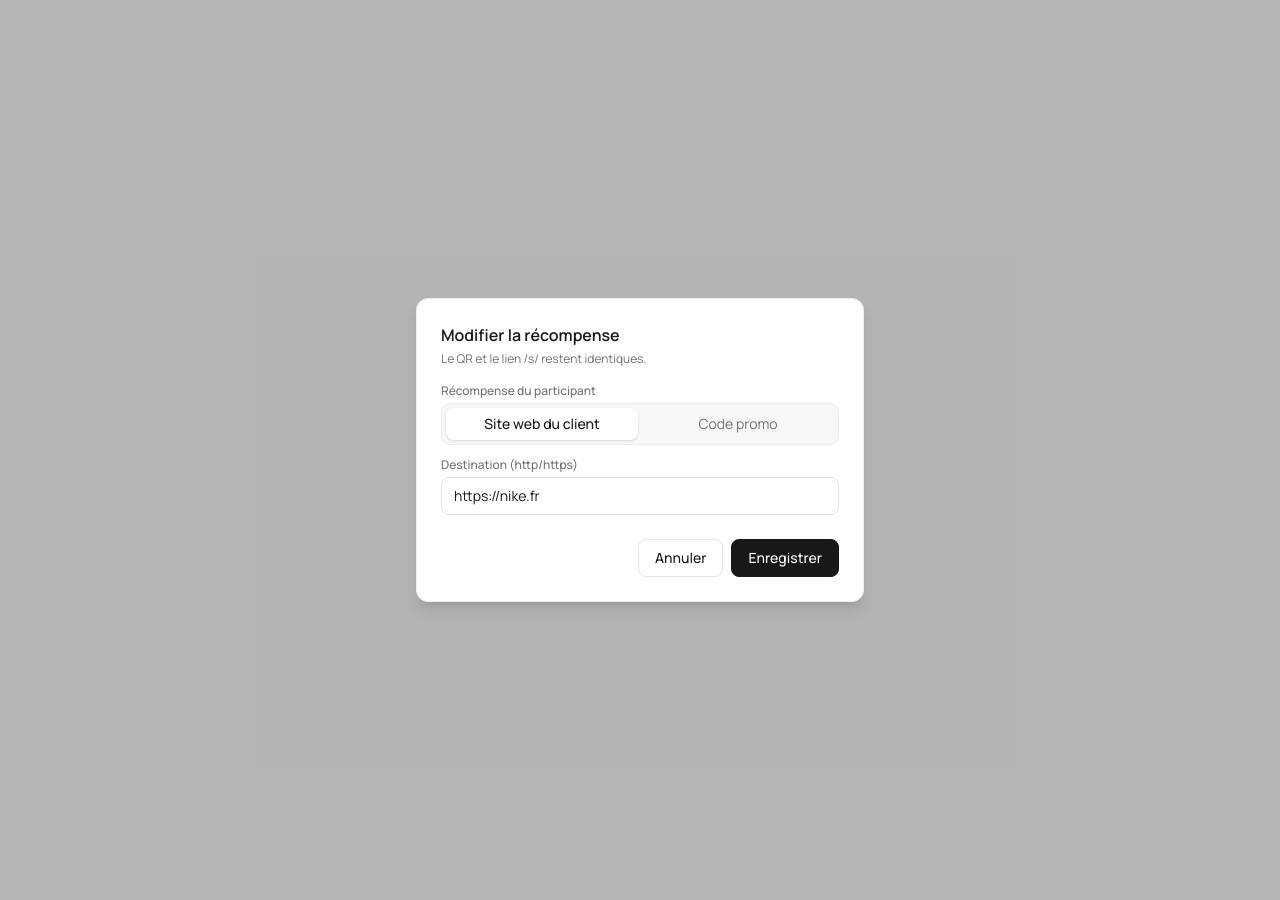
RewardEditDialog › shows the French message for a missing code
Click the radio button labelled "Code promo" at [738, 424], box [642,408,834,440]
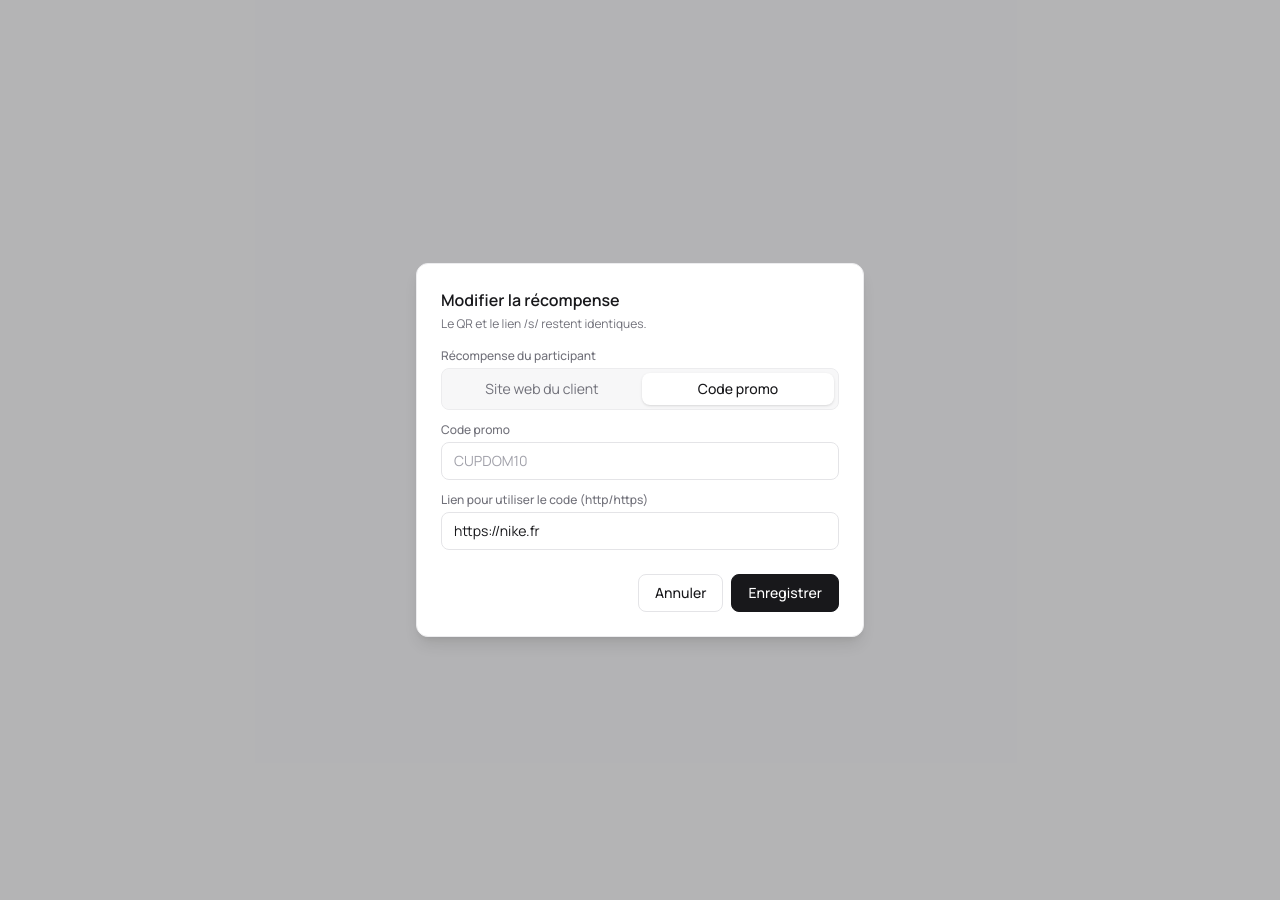
Click the button "Enregistrer" at [785, 593], box [732,574,839,612]
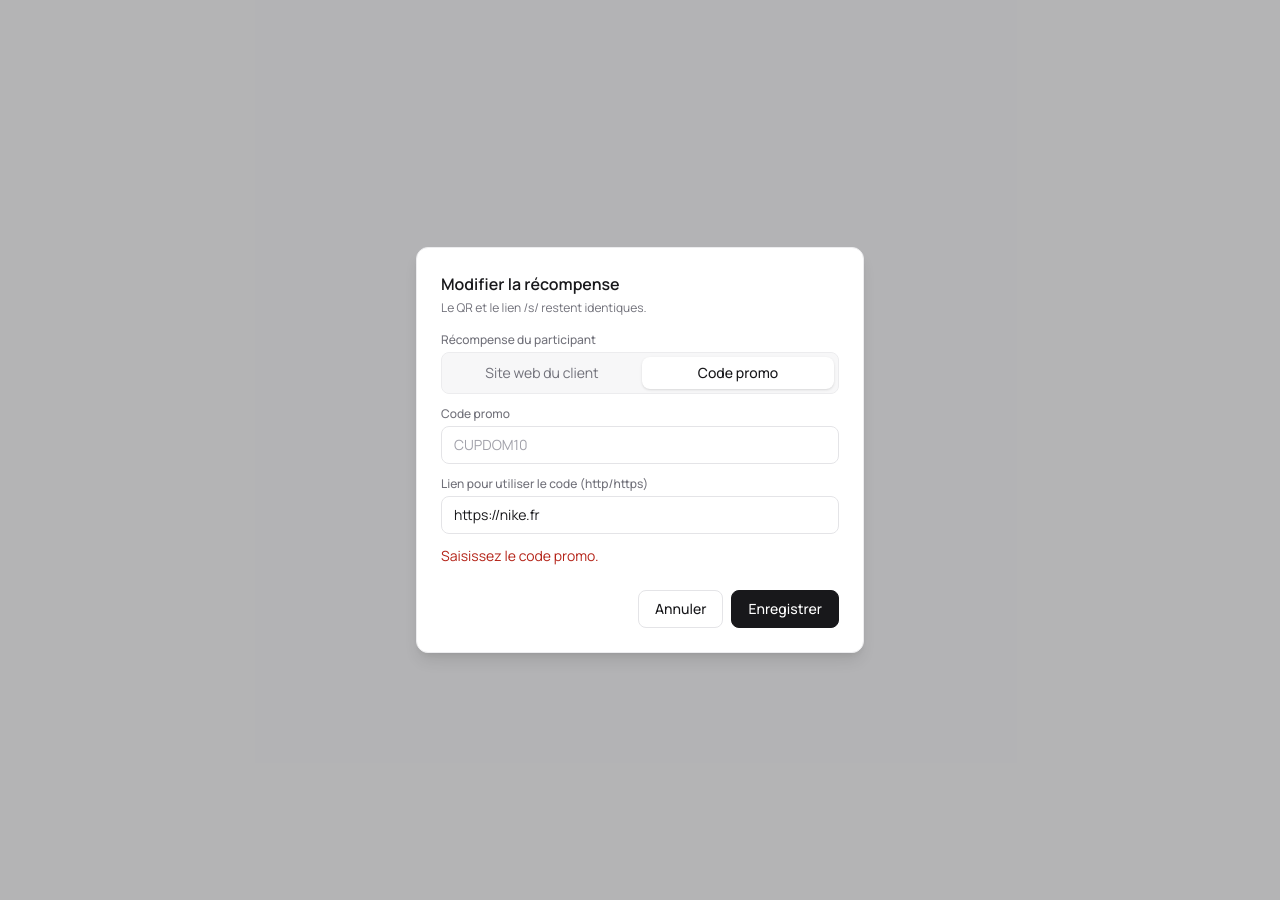
Expected: the text "Saisissez le code promo." is shown, [441,546,599,565]
